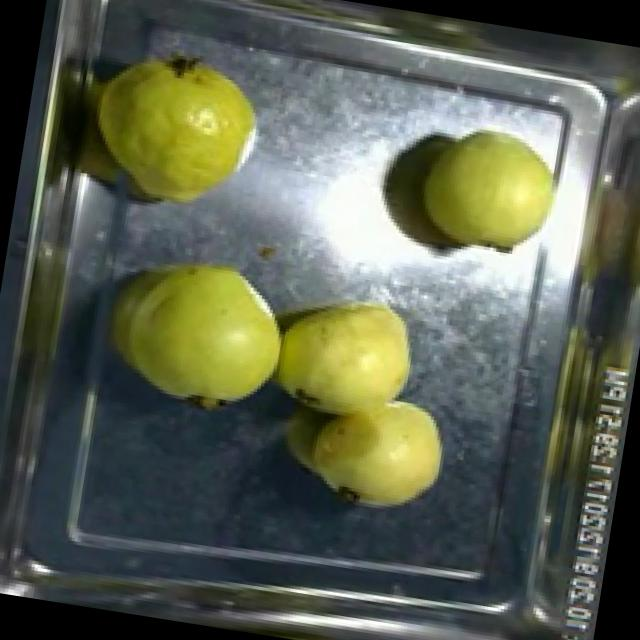Fruit: (91, 236, 303, 424), (74, 29, 277, 225), (403, 106, 577, 270), (264, 279, 430, 434), (298, 378, 460, 524)
